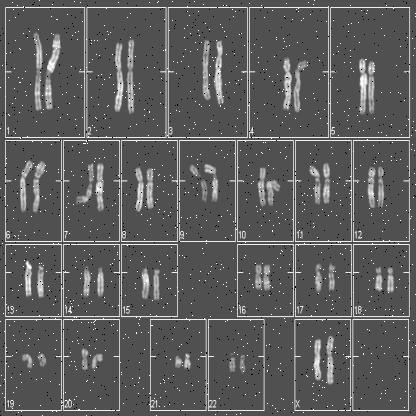1: (47, 30, 62, 115), (30, 29, 44, 114)
10: (266, 174, 284, 210), (257, 164, 266, 209)
11: (306, 163, 322, 207), (320, 158, 332, 209)
12: (366, 162, 378, 214), (378, 154, 386, 216)
13: (22, 256, 36, 301), (36, 260, 46, 304)
14: (79, 261, 93, 300), (97, 264, 107, 299)
15: (139, 264, 151, 302), (152, 266, 162, 304)
16: (264, 252, 272, 298), (254, 260, 263, 292)
17: (313, 261, 326, 294), (327, 260, 337, 296)
18: (372, 264, 386, 294), (386, 258, 396, 296)
19: (19, 348, 35, 370), (37, 348, 48, 373)
2: (112, 37, 126, 114), (126, 30, 136, 118)
20: (80, 342, 90, 377), (92, 351, 104, 371)
21: (172, 348, 183, 374), (185, 343, 193, 378)
22: (228, 348, 236, 375), (238, 350, 246, 377)
3: (212, 31, 226, 110), (202, 36, 212, 108)
4: (294, 58, 308, 115), (282, 56, 292, 113)
5: (358, 53, 367, 118), (368, 53, 376, 120)
6: (32, 152, 45, 216), (20, 158, 33, 214)
7: (75, 160, 95, 208), (94, 154, 108, 214)
8: (144, 155, 158, 217), (132, 164, 144, 216)
9: (188, 160, 206, 204), (206, 154, 221, 206)
X: (324, 328, 336, 390), (312, 332, 324, 387)
